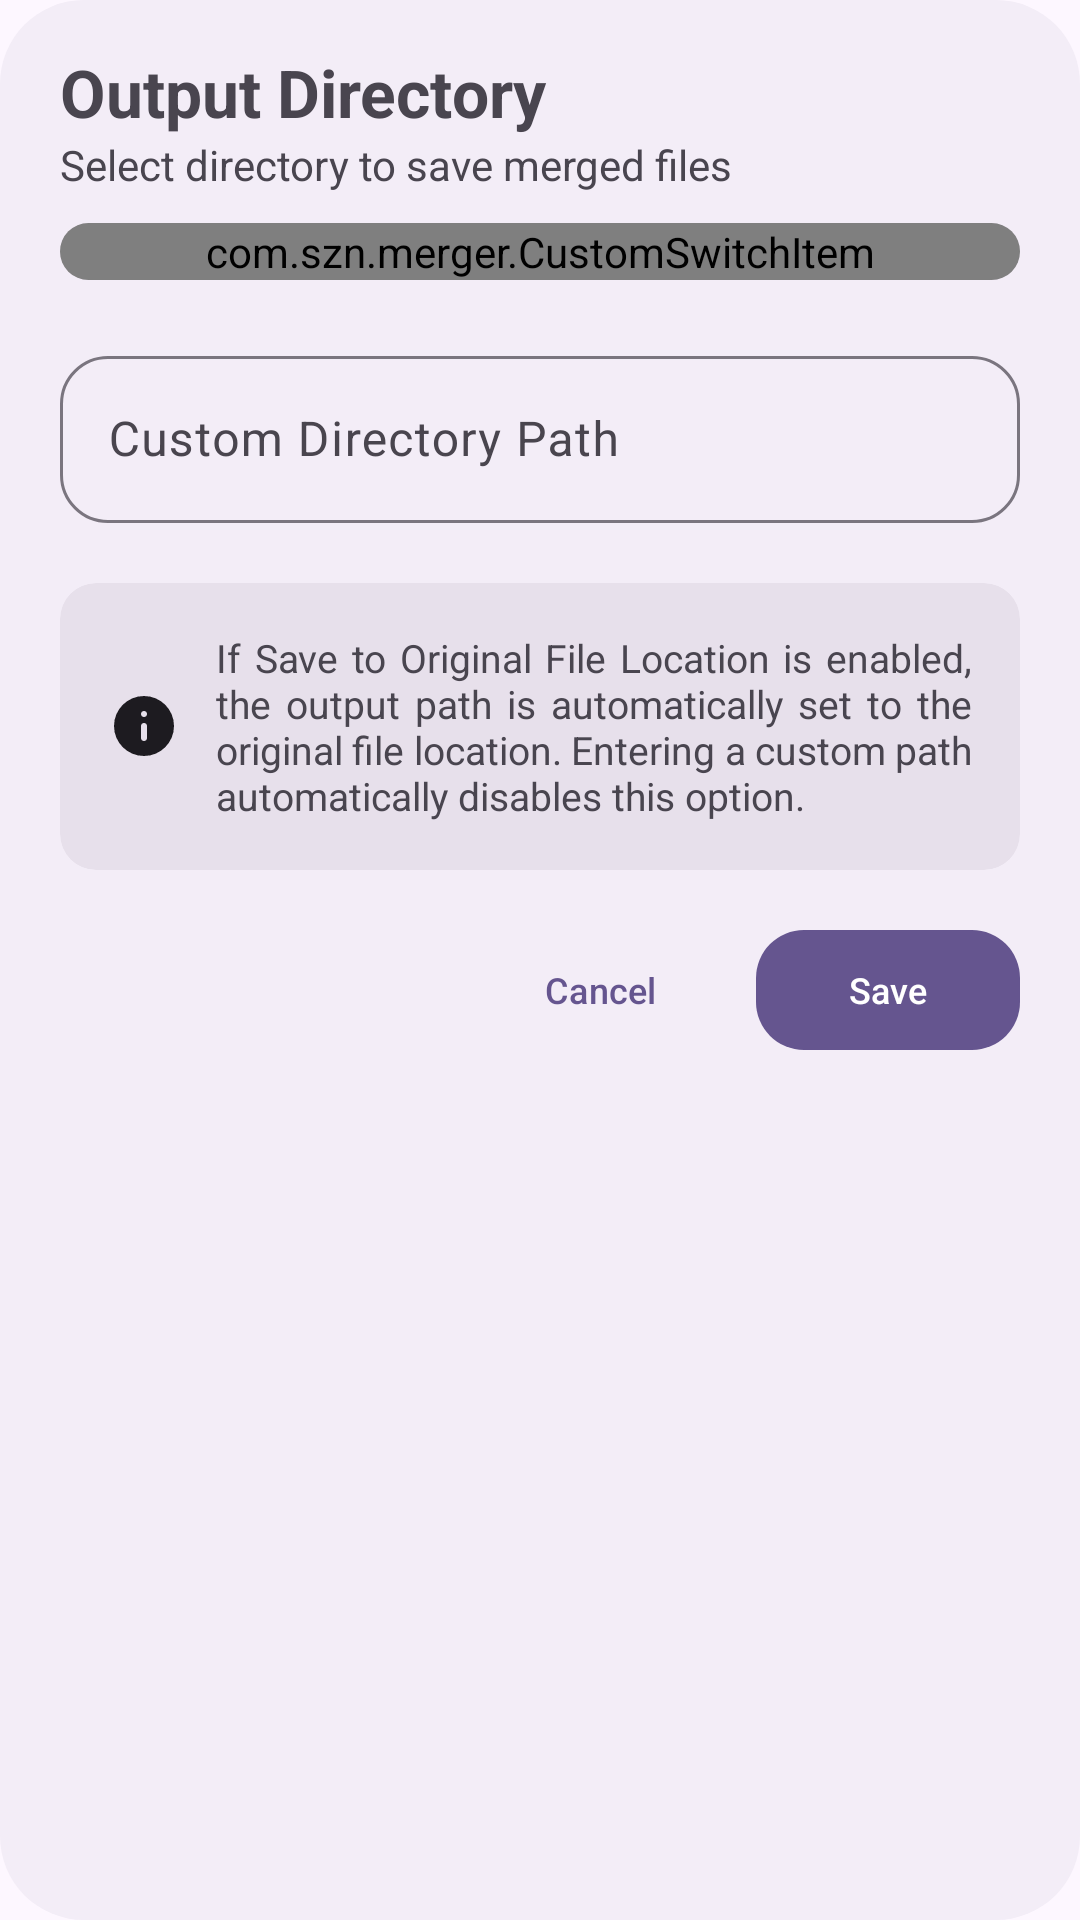

Where to tap for icons on this 1080px x 1920px app screen, as point (x, y):
info: point (144, 726)
